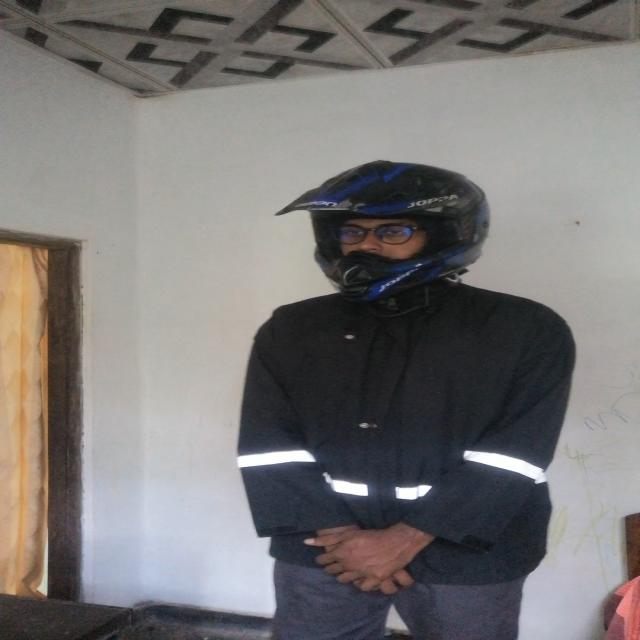Helmet_Wearer: (289, 162, 499, 311)
Jacket_Wearer: (240, 280, 578, 598)
Person: (243, 165, 578, 640)
